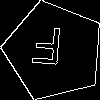F: (29, 26, 64, 74)
